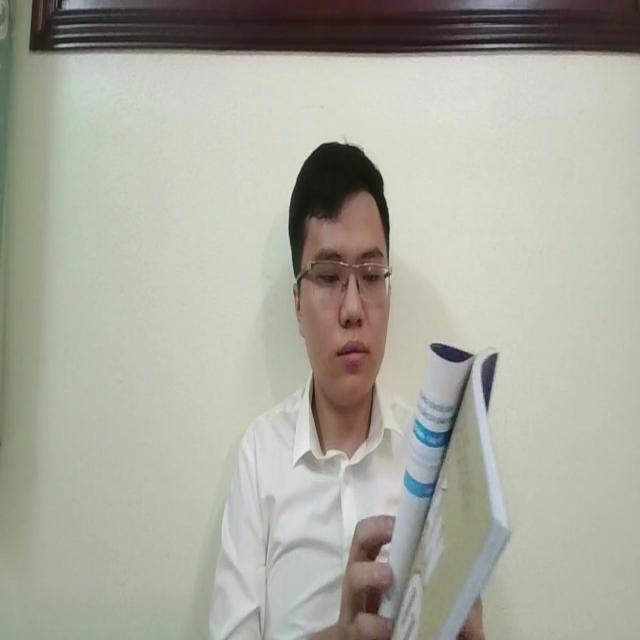book: (383, 338, 507, 640)
student: (204, 133, 424, 640)
